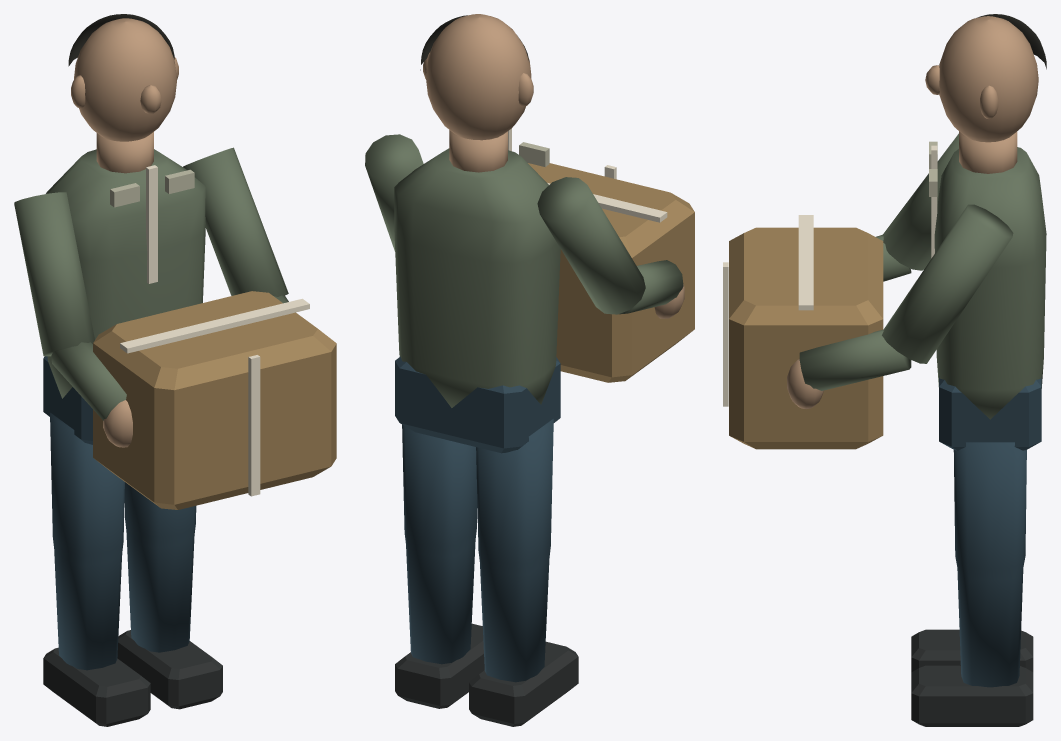
Rendered from porter.glb.
The picture shows the model from 3 angles, left to right: view 1: azimuth 30°, elevation 25°; view 2: azimuth 150°, elevation 25°; view 3: azimuth 270°, elevation 25°; orthographic projection. The views are drawn at different scales.
Parts seen in each view (by area): view 1: carried-parcel, body.002, leg-left.002, leg-right.002, arm-left.002, arm-right.002; view 2: body.002, leg-left.002, leg-right.002, carried-parcel, arm-left.002, arm-right.002; view 3: body.002, carried-parcel, leg-right.002, arm-right.002, arm-left.002, leg-left.002.
Part boxes in pixels (x1,y1,x2,y2): carried-parcel: [93, 291, 336, 509]; body.002: [43, 14, 205, 444]; leg-left.002: [43, 412, 150, 726]; leg-right.002: [117, 482, 222, 709]; arm-left.002: [14, 192, 132, 447]; arm-right.002: [183, 147, 288, 303]; body.002: [394, 14, 560, 453]; leg-left.002: [469, 419, 578, 726]; leg-right.002: [395, 424, 484, 708]; carried-parcel: [528, 163, 694, 382]; arm-left.002: [537, 177, 684, 318]; arm-right.002: [365, 134, 423, 251]; body.002: [925, 14, 1046, 450]; carried-parcel: [723, 215, 883, 449]; leg-right.002: [911, 442, 1033, 726]; arm-right.002: [787, 204, 1013, 408]; arm-left.002: [876, 133, 958, 281]; leg-left.002: [911, 629, 1033, 672].
Size of the model in its own units: 0.6581 by 1.75 by 0.7553.
